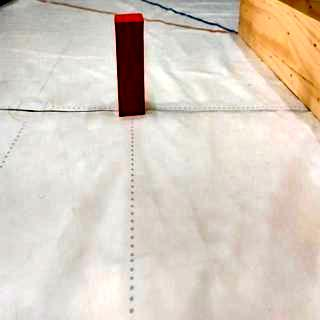redbox: (114, 12, 146, 116)
